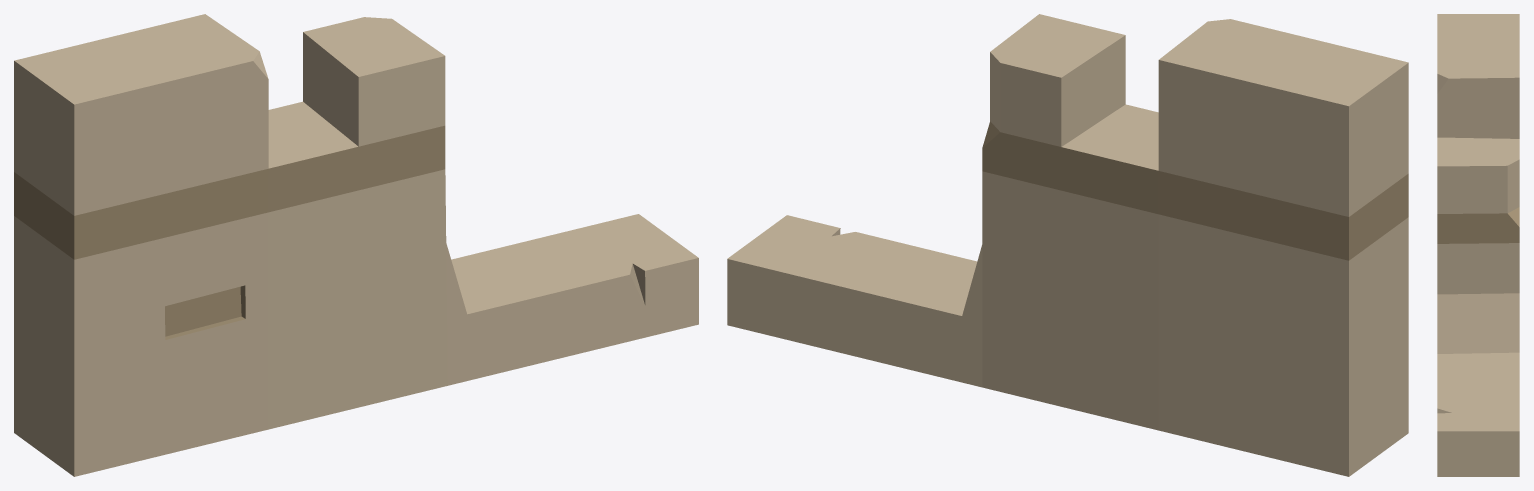
Rendered from WallLightSandStoneRectangleInlayDecorationEnd1.fbx.
3 renders of one model, left to right at view 1: azimuth 30°, elevation 25°; view 2: azimuth 150°, elevation 25°; view 3: azimuth 270°, elevation 25°, orthographic. The views are drawn at different scales.
Parts seen in each view (by area): view 1: WallLightSandStoneRectangleInlayDecorationEnd1; view 2: WallLightSandStoneRectangleInlayDecorationEnd1; view 3: WallLightSandStoneRectangleInlayDecorationEnd1.
Part boxes in pixels (<box>): WallLightSandStoneRectangleInlayDecorationEnd1: <box>14,14,698,476</box>; WallLightSandStoneRectangleInlayDecorationEnd1: <box>727,14,1408,476</box>; WallLightSandStoneRectangleInlayDecorationEnd1: <box>1437,14,1519,476</box>.
Bounding box in the file's own units: 1200 × 684 × 200.
